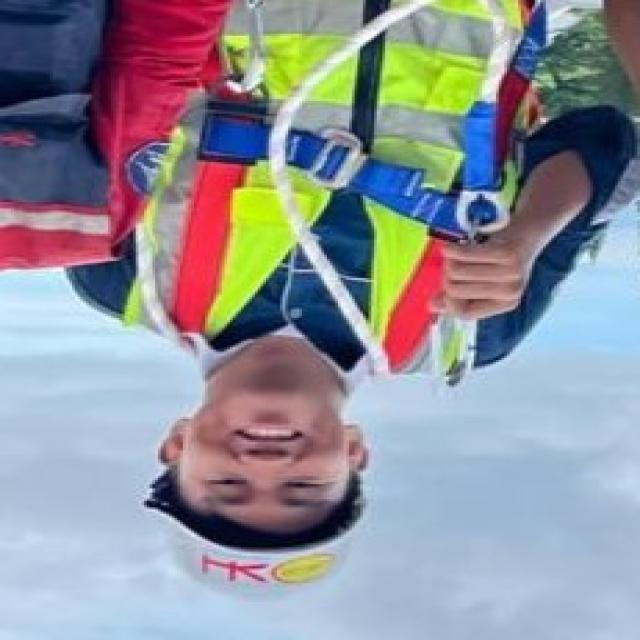safetyhelmet: (148, 424, 372, 606)
